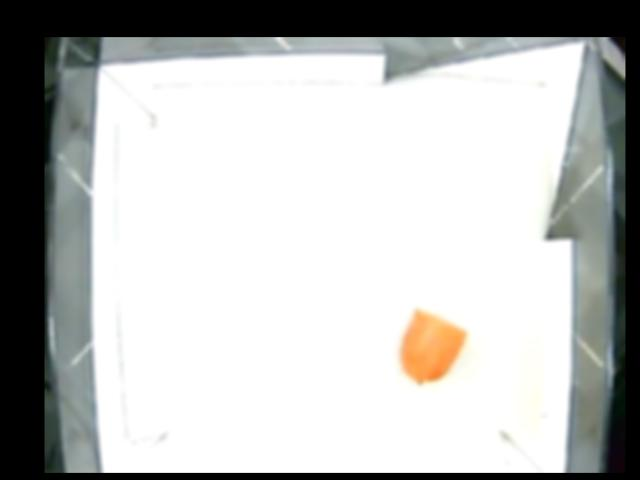Carrot: (399, 307, 468, 384)
